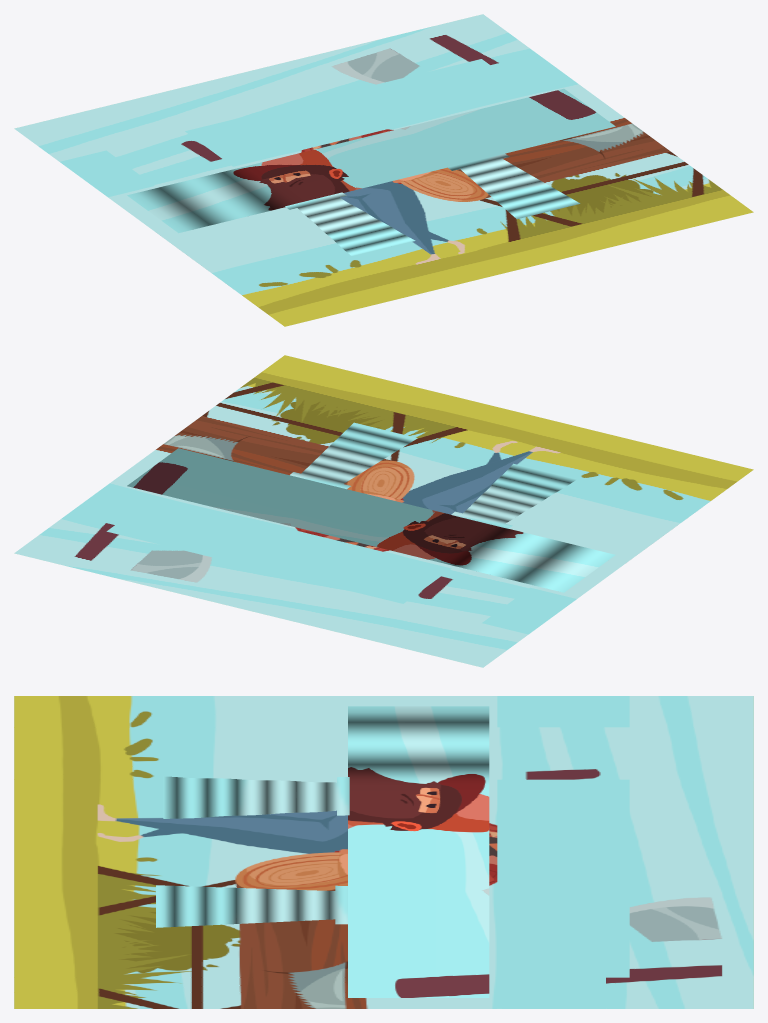
3 views of the same model, one above another, from view 1: azimuth 30°, elevation 25°; view 2: azimuth 150°, elevation 25°; view 3: azimuth 270°, elevation 25° (orthographic). The views are drawn at different scales.
Visible parts, largest first — view 1: mesh, bridge, pole_02, pole_01; view 2: mesh, bridge, pole_02, pole_01; view 3: mesh, bridge, pole_02, pole_01.
Part boxes in pixels (box(x1,y1,x2,y2)): mesh: box(14, 14, 753, 326); bridge: box(127, 88, 615, 233); pole_02: box(448, 153, 580, 219); pole_01: box(285, 192, 415, 256); mesh: box(14, 355, 753, 667); bridge: box(127, 448, 615, 592); pole_02: box(290, 422, 417, 489); pole_01: box(451, 463, 576, 528); mesh: box(14, 696, 753, 1008); bridge: box(348, 706, 489, 997); pole_02: box(156, 885, 347, 927); pole_01: box(163, 776, 349, 818).
Size of the model in its own units: 2400 by 3.06 by 2400.
